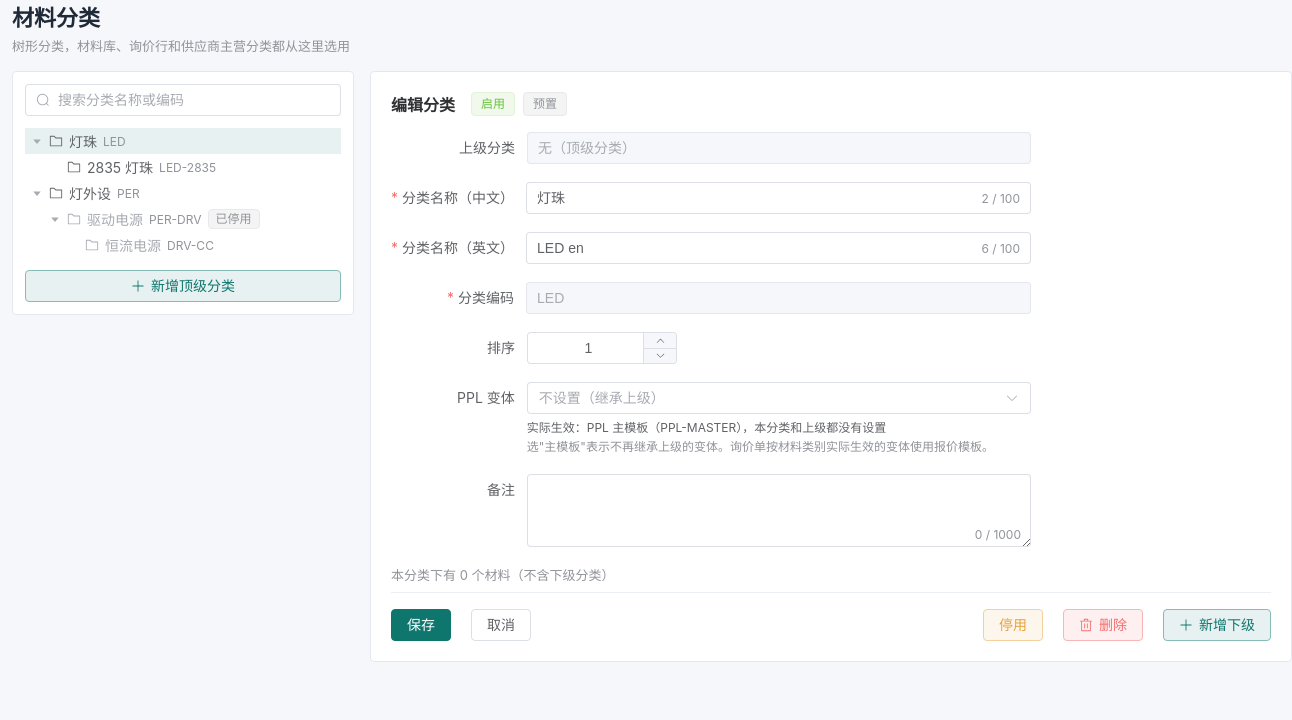
材料分类页 › R03-2 上级停用后，下级显示"不能被选用"的提示，不能新增下级
What coordinates should you click on to do the following:
click the element showing "恒流电源 DRV-CC"
I would click on:
 (149, 246)
Its box is [85,237,214,254].
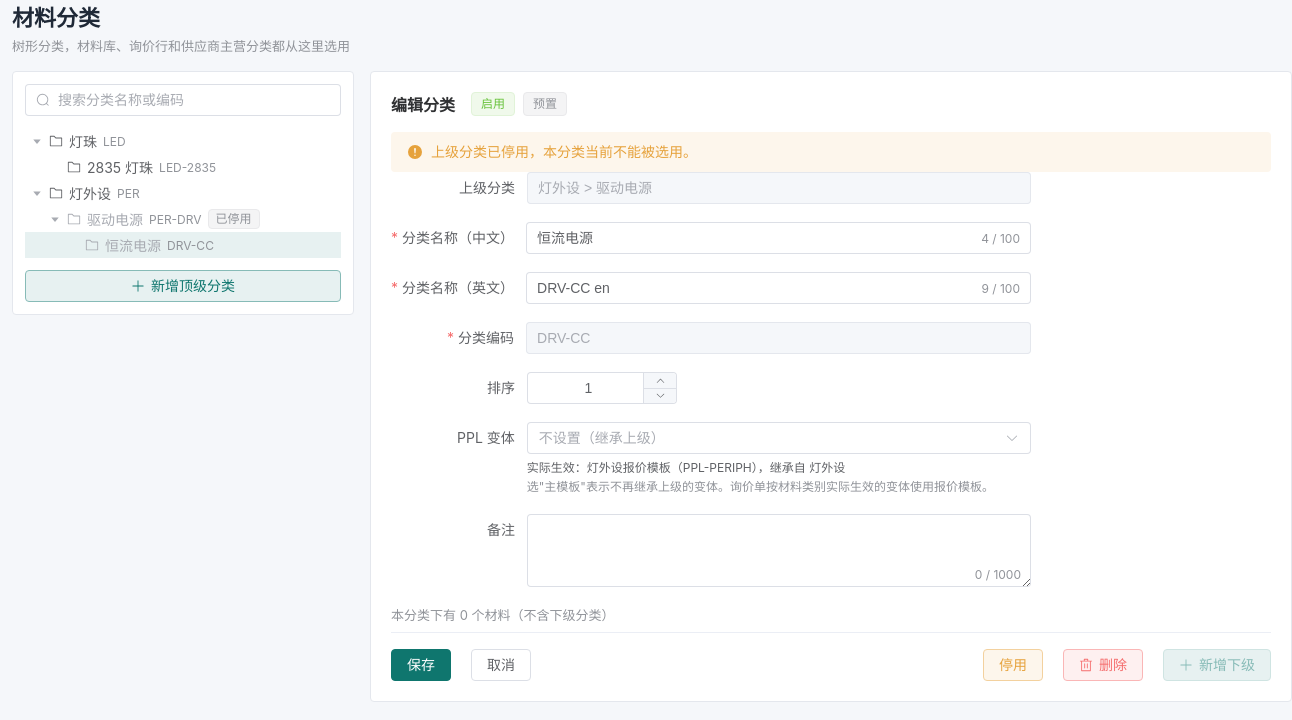
Check: the text "上级分类已停用，本分类当前不能被选用。" is shown, box [431,140,697,164]
Check: the button "新增下级" is disabled, box [1163,649,1271,681]
What coordinates should you click on to do the following:
click the element showing "驱动电源 PER-DRV 已停用"
I would click on:
 (154, 219)
Its box is [49,209,260,229].
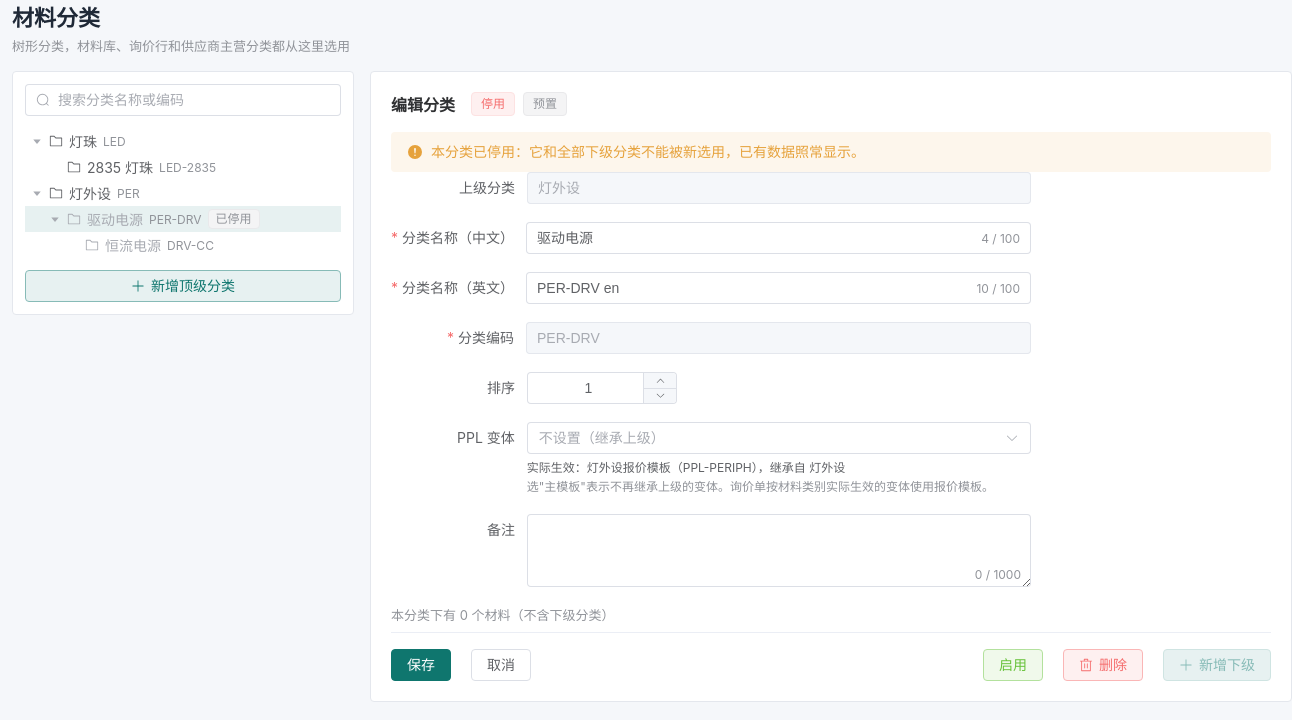
Check: the button "启用" is shown, box [983,649,1043,681]
Check: the text "本分类已停用：它和全部下级分类不能被新选用，已有数据照常显示。" is shown, box [431,140,865,164]
